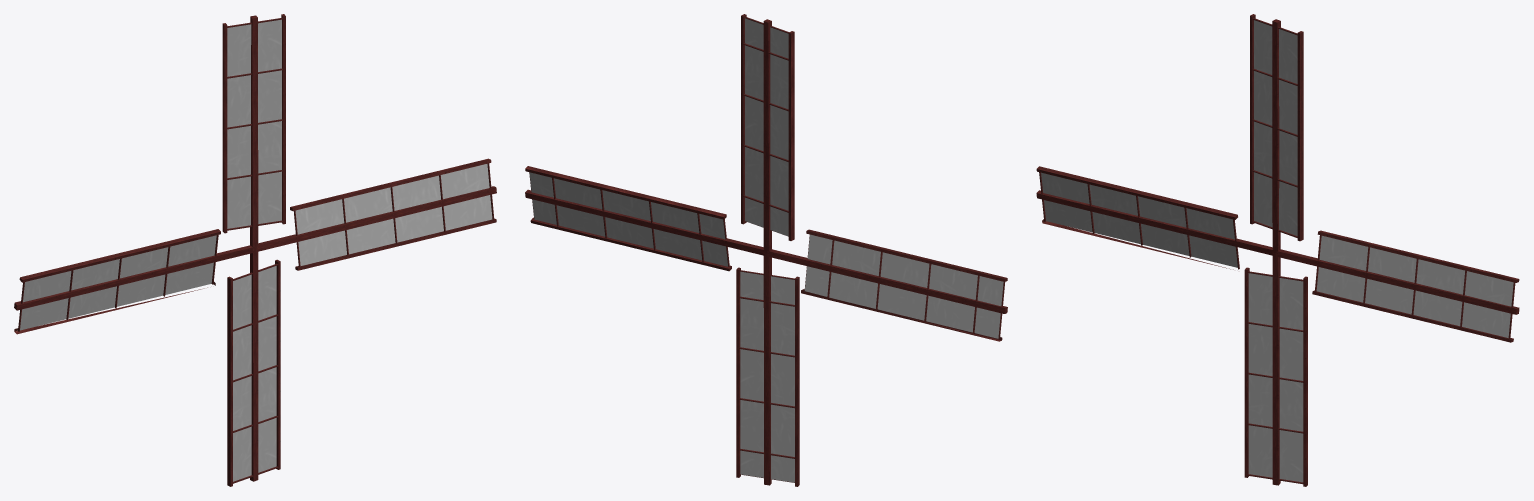
Rendered from chunk_2_0_lod2.glb.
The picture shows the model from 3 angles, left to right: view 1: azimuth 30°, elevation 25°; view 2: azimuth 150°, elevation 25°; view 3: azimuth 330°, elevation 25°; orthographic projection.
Parts seen in each view (by area): view 1: wind_fan.001; view 2: wind_fan.001; view 3: wind_fan.001.
Part boxes in pixels (x1,y1,x2,y2): wind_fan.001: (14,14,496,486); wind_fan.001: (525,14,1007,486); wind_fan.001: (1036,14,1519,486).
Size of what is drawn, in the model's own units: 8.24 by 7.6 by 0.248.
2 materials, 2 textured.
